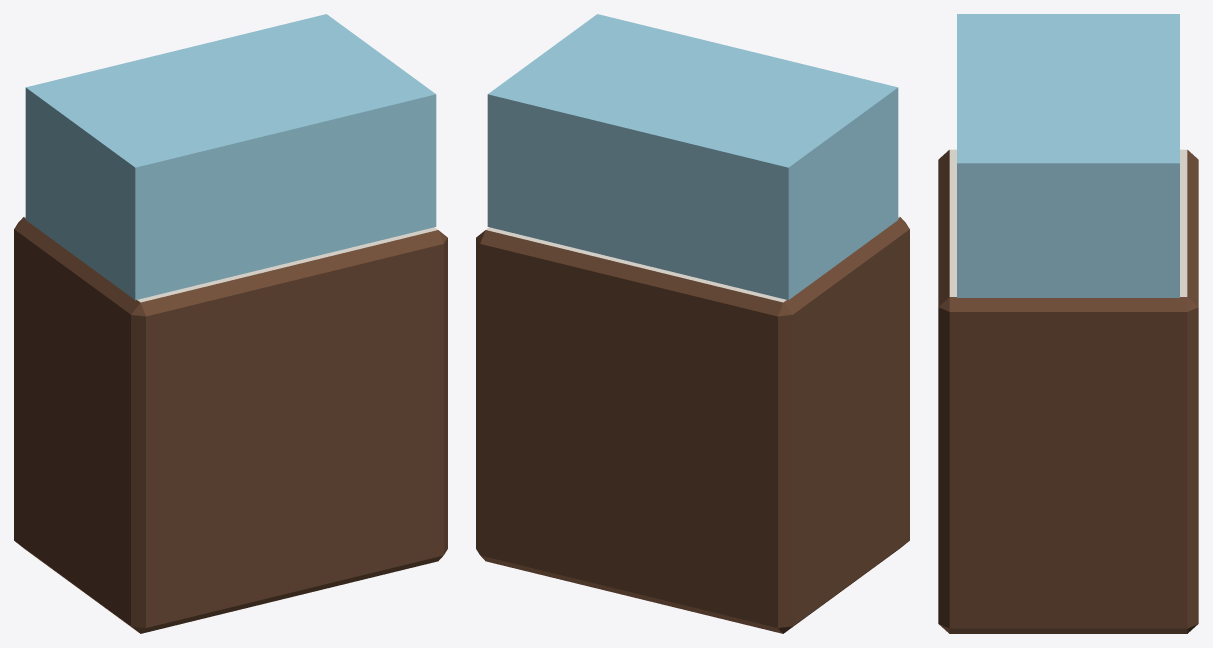
Rendered from pastry_case.fbx.
The picture shows the model from 3 angles, left to right: view 1: azimuth 30°, elevation 25°; view 2: azimuth 150°, elevation 25°; view 3: azimuth 270°, elevation 25°; orthographic projection.
Parts seen in each view (by area): view 1: pastry_case; view 2: pastry_case; view 3: pastry_case.
Part boxes in pixels (x1,y1,x2,y2): pastry_case: (14,14,447,633); pastry_case: (476,14,909,633); pastry_case: (938,14,1198,633).
Bounding box in the file's own units: 1 × 1.4 × 0.7.
